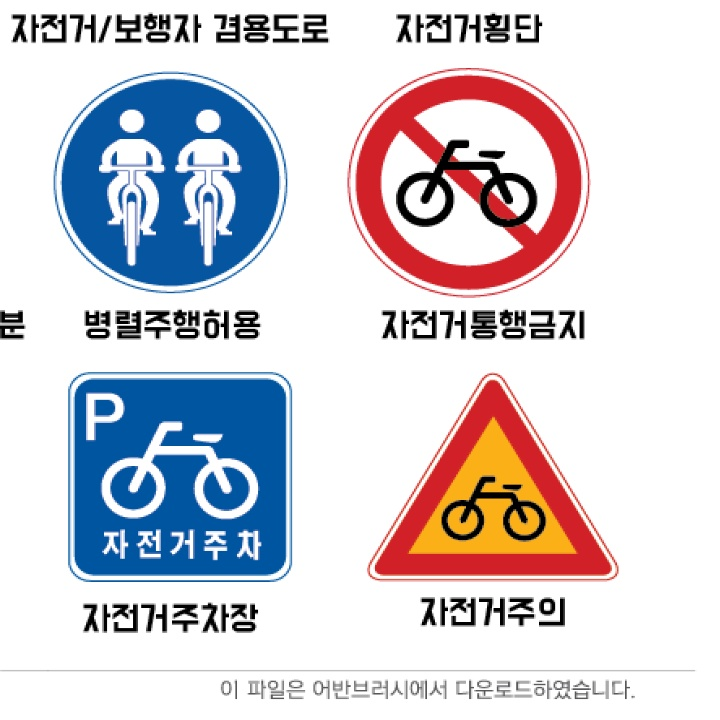bicycle: (380, 379, 613, 579)
parking: (77, 383, 130, 450)
